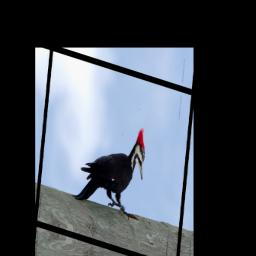Woodpecker: (72, 108, 148, 224)
